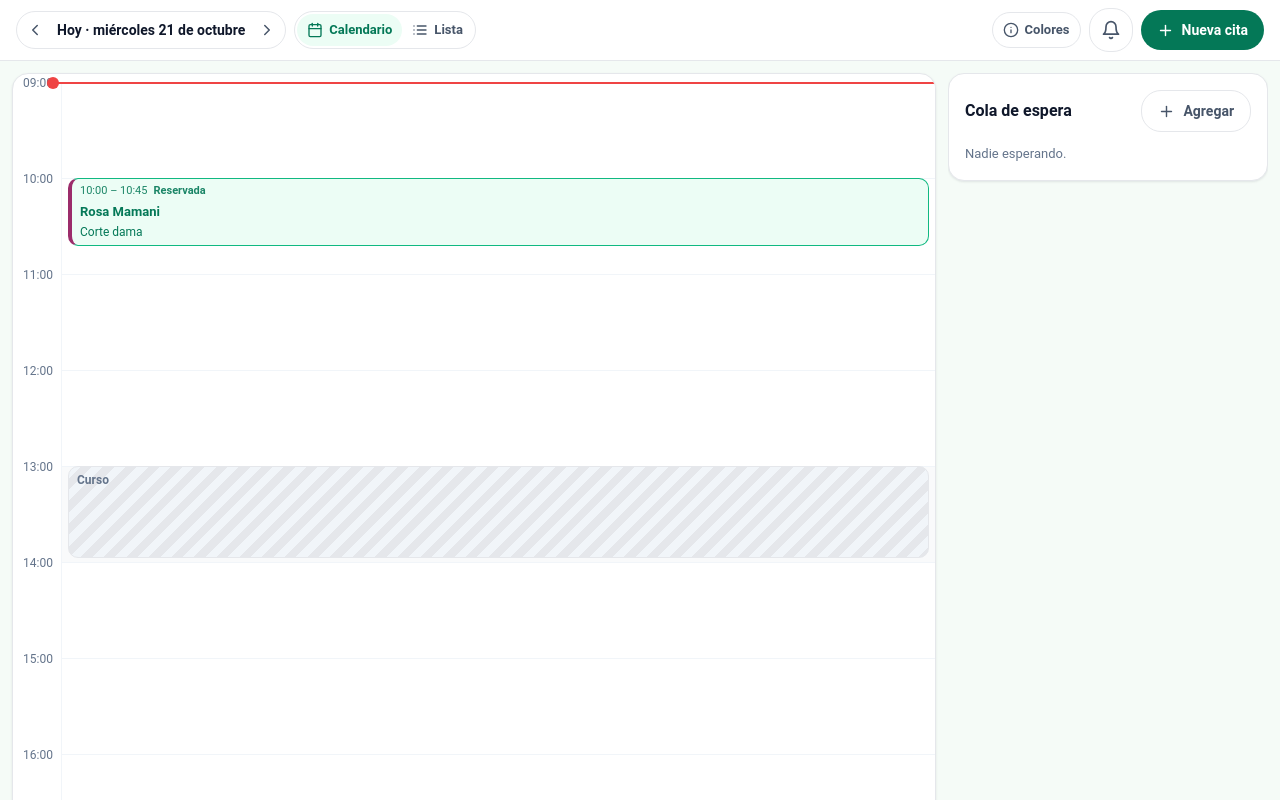
Scenario: vistas y barra (pedido del 12-oct) › los filtros van en un solo desplegable, con los colores adentro
Expected: the text "Qué significa cada color" is not shown
Step 1. Click the button "Colores" → (1036, 30), box top-left (992, 12), bottom-right (1080, 48)
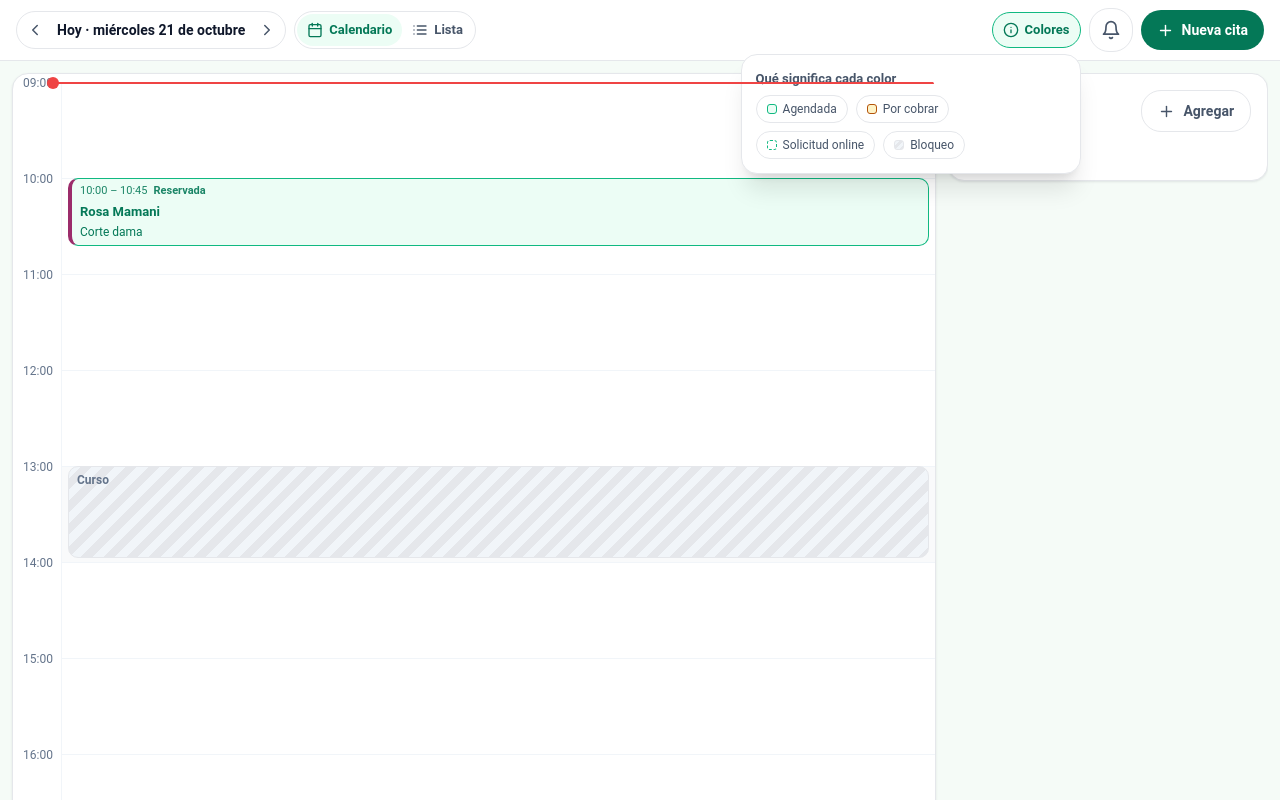
Expected: the text "Qué significa cada color" is shown, top-left (756, 71), bottom-right (896, 86)
